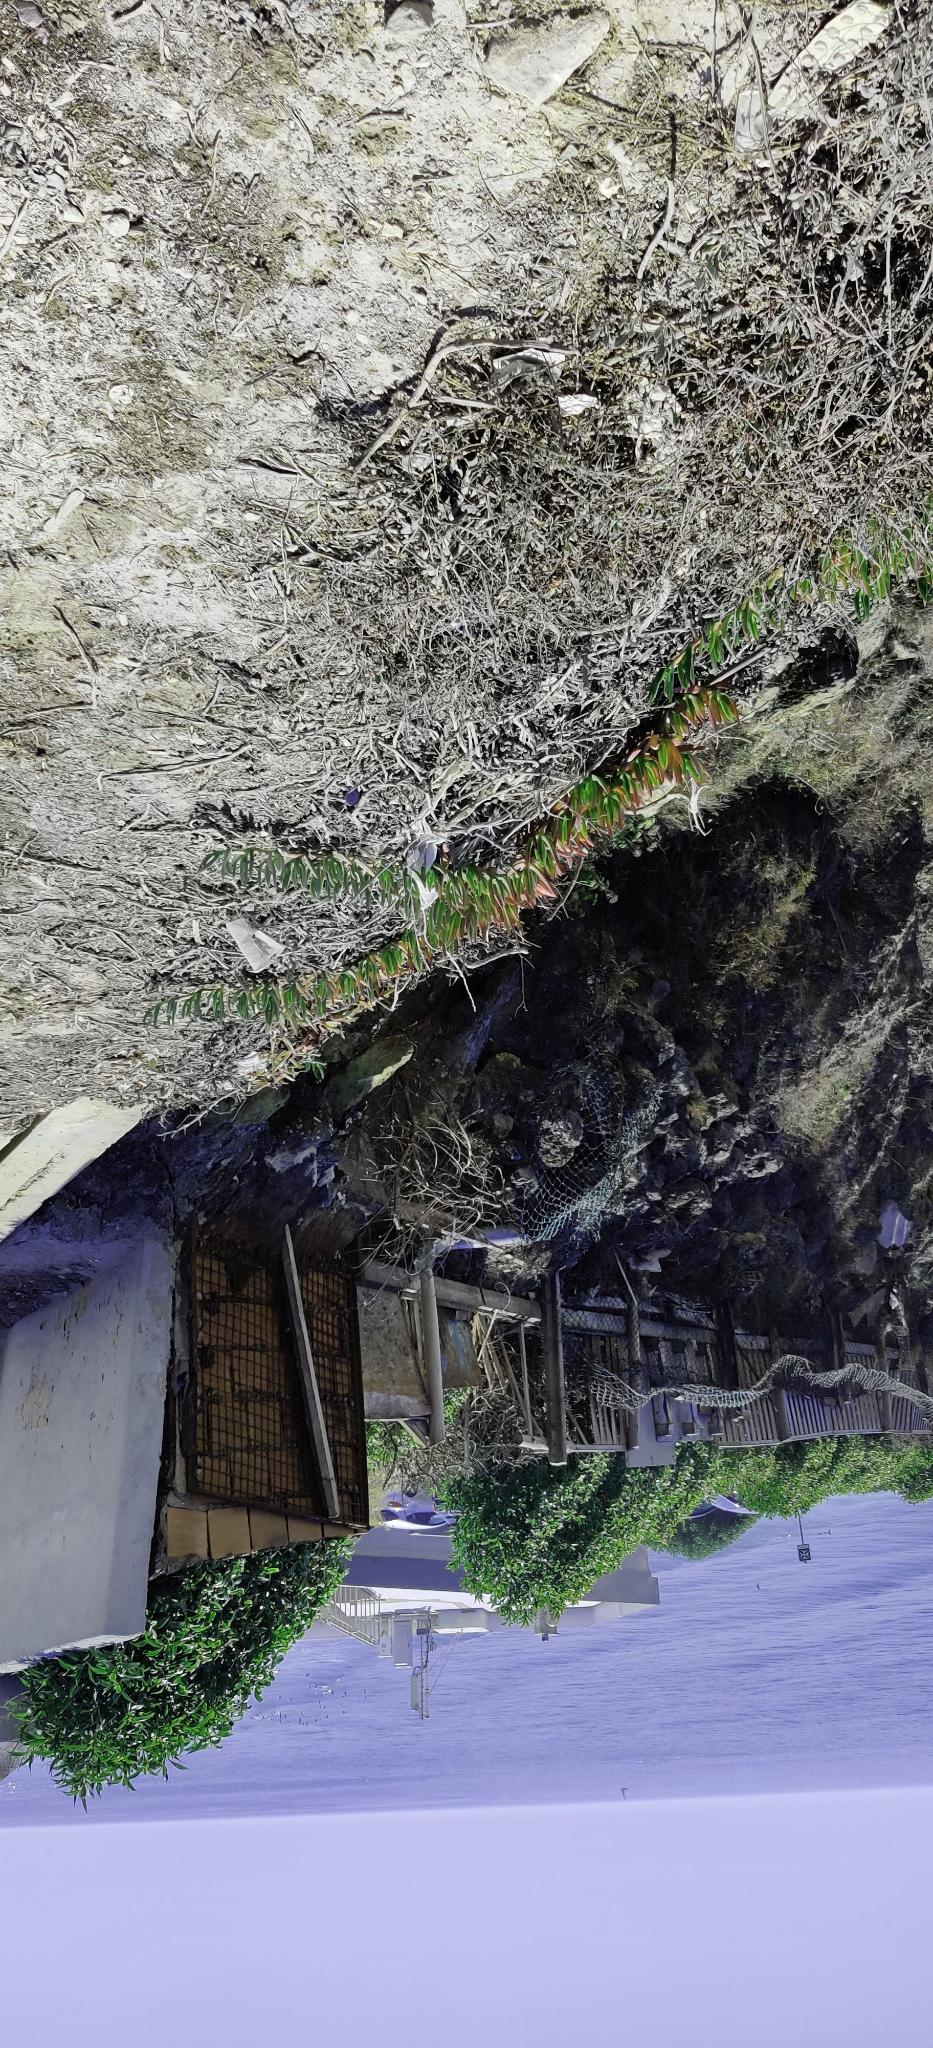Plastic: (223, 900, 290, 977)
